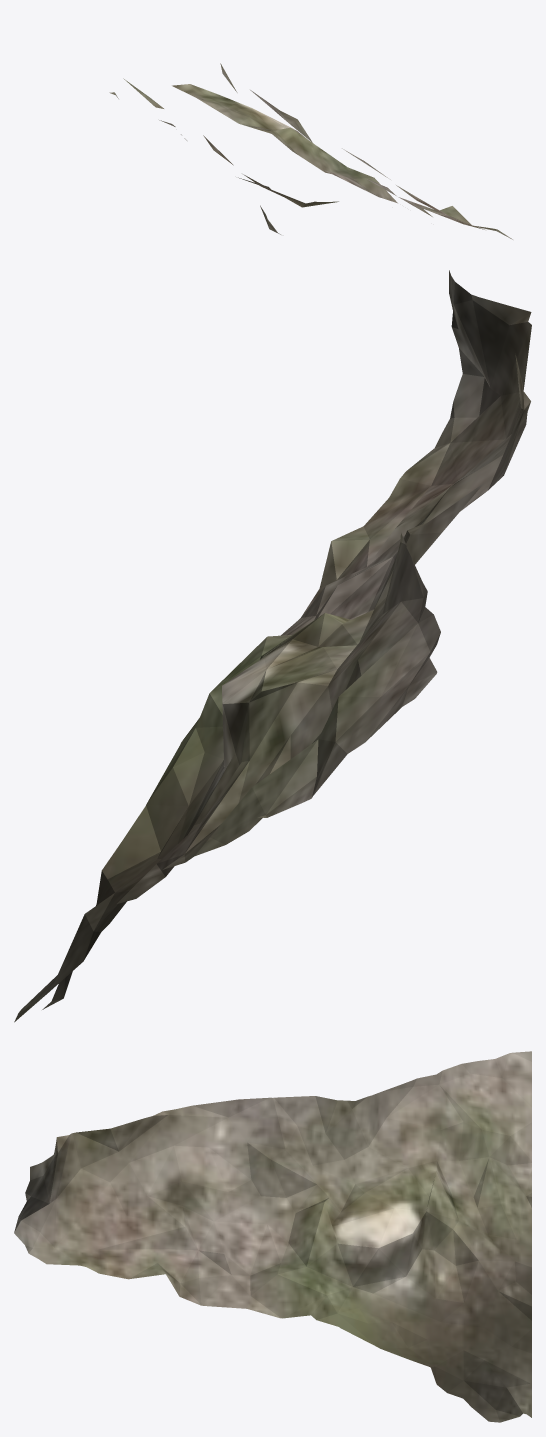
3 renders of one model, top to bottom at view 1: azimuth 30°, elevation 25°; view 2: azimuth 150°, elevation 25°; view 3: azimuth 270°, elevation 25°, orthographic. The views are drawn at different scales.
Size of the model in its own units: 1.92 by 1.98 by 3.63.
1 material, 1 textured.
